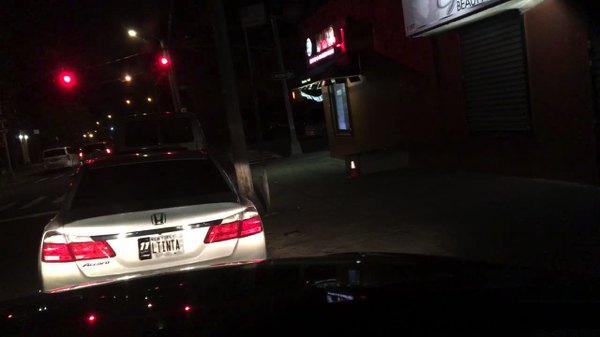car: (37, 148, 267, 291), (113, 107, 206, 157), (39, 146, 82, 176), (77, 140, 113, 173), (303, 118, 328, 141), (82, 132, 95, 140)
traffic light: (290, 90, 303, 103), (63, 76, 70, 84), (160, 59, 169, 65)
traffic sign: (239, 4, 267, 28), (272, 72, 294, 81), (33, 129, 41, 136)
